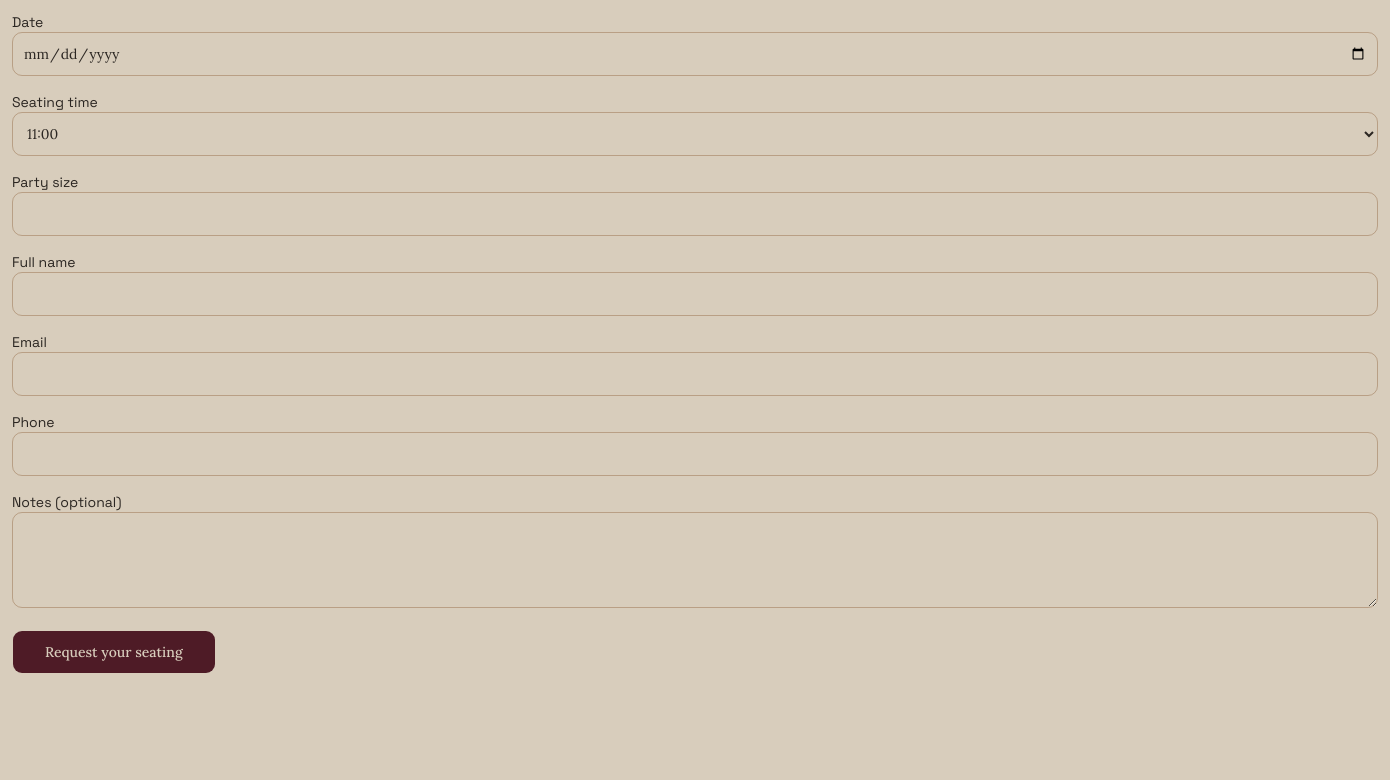
ReservationForm › shows a generic error message when createReservation returns an error
Type "2026-09-17" into the date field labelled "Date" at (695, 54), box [12,32,1378,76]
Select "11:00" in the dropdown labelled "Seating time" at (695, 134), box [12,112,1378,156]
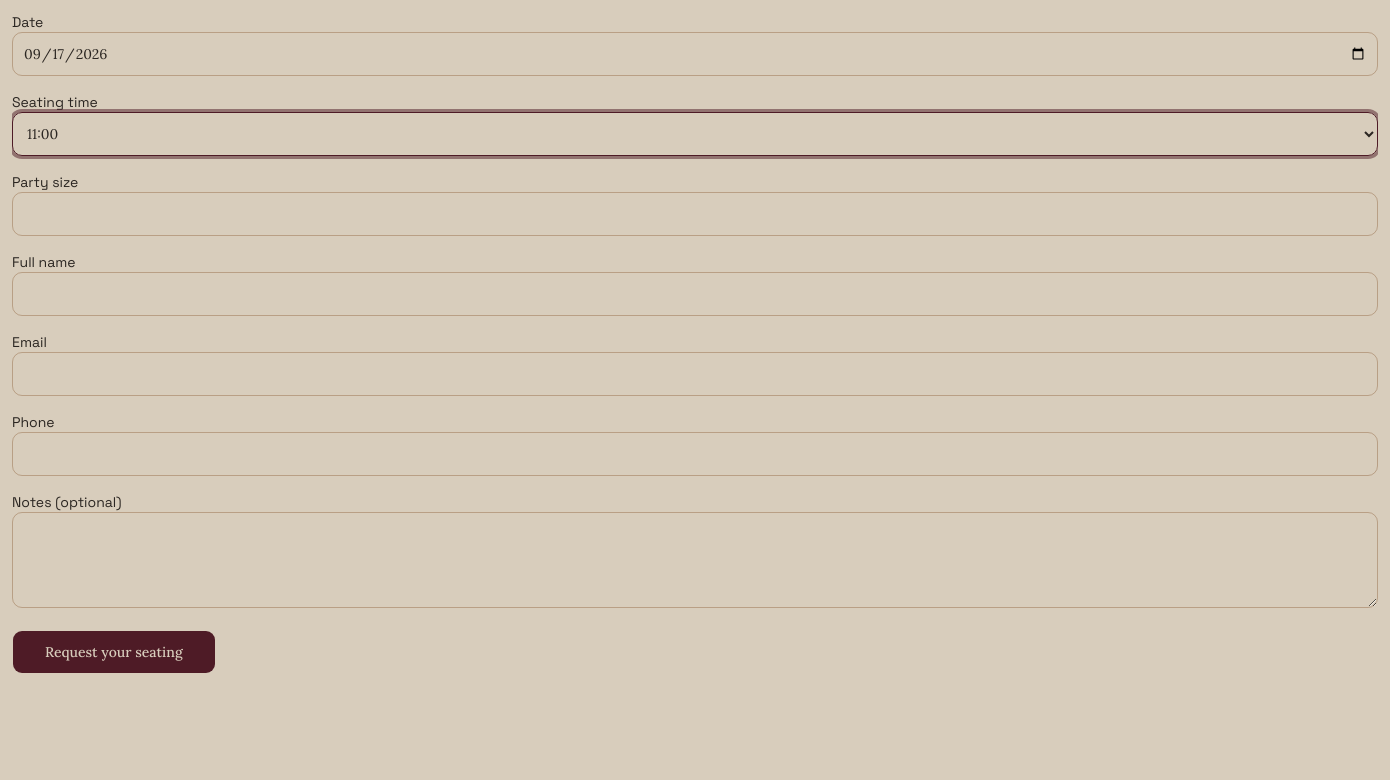
Type "2" into the number field labelled "Party size" at (695, 214), box [12,192,1378,236]
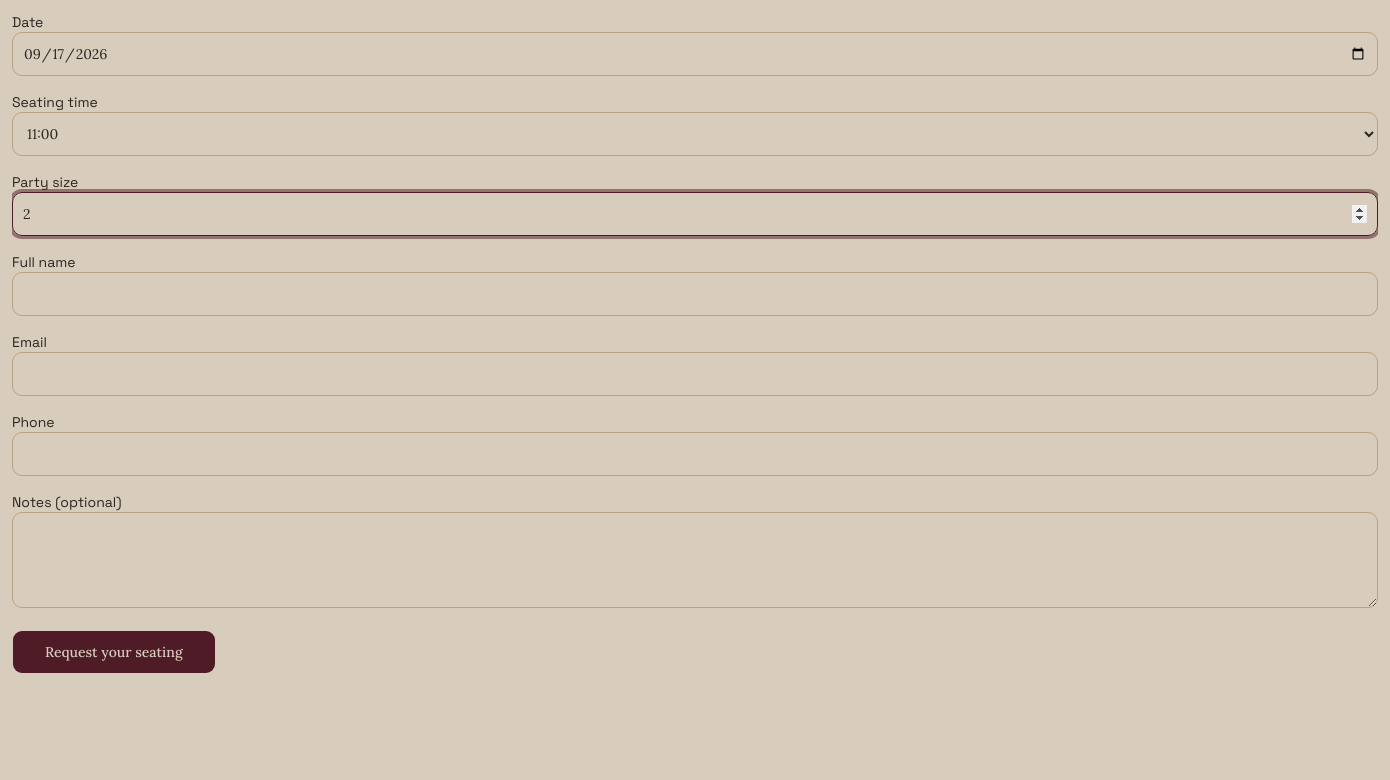
Type "Jane Doe" into the field labelled "Full name" at (695, 294), box [12,272,1378,316]
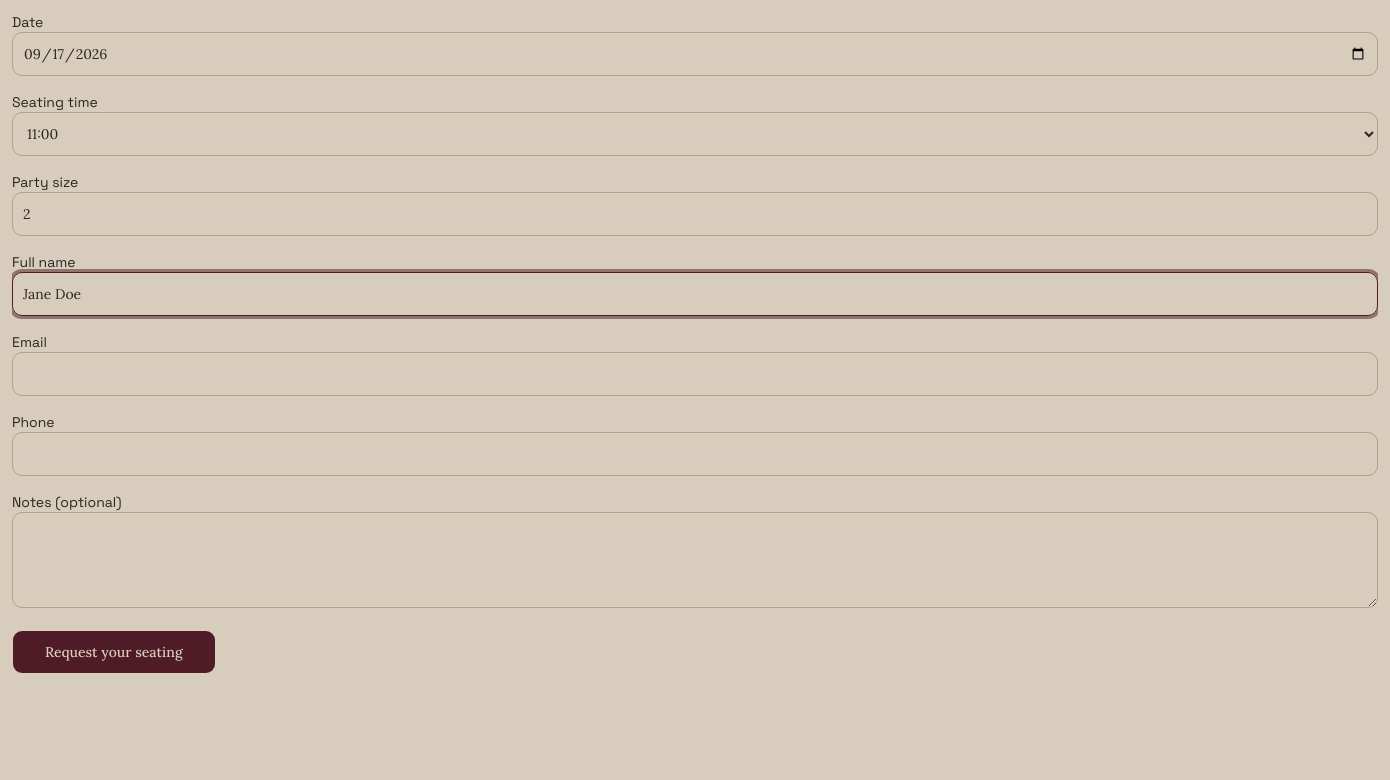
Type "jane@example.com" into the field labelled "Email" at (695, 374), box [12,352,1378,396]
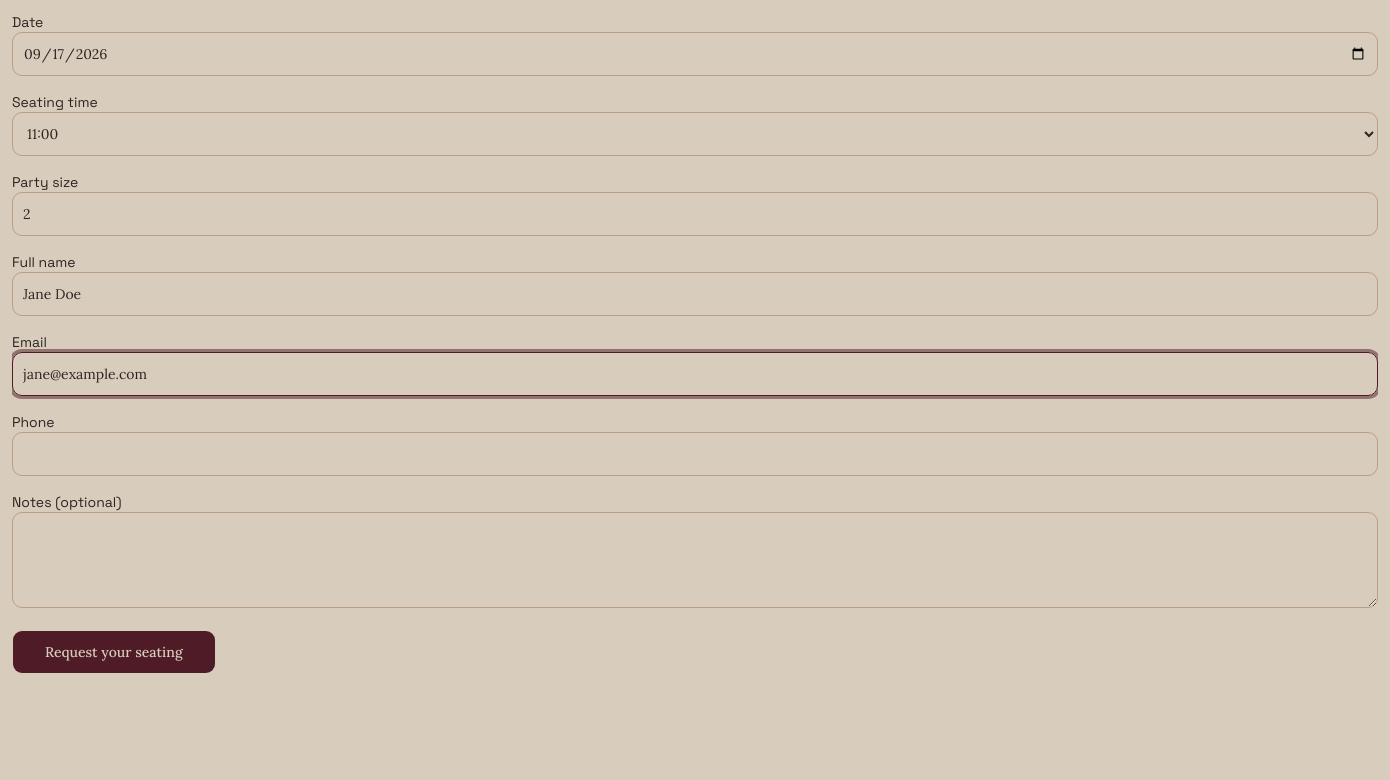
Type "+15551234567" into the field labelled "Phone" at (695, 454), box [12,432,1378,476]
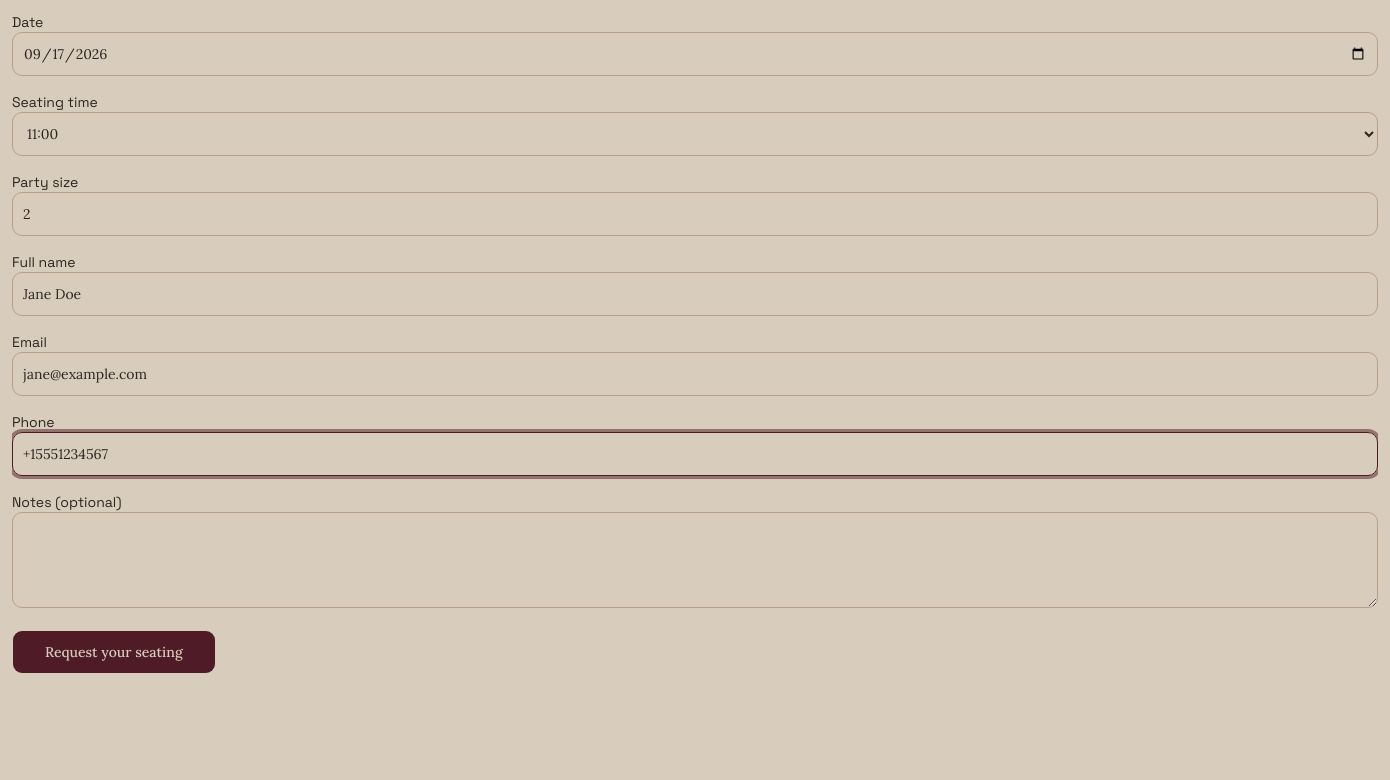
Click the button "Request your seating" at (114, 652), box [12,630,216,674]
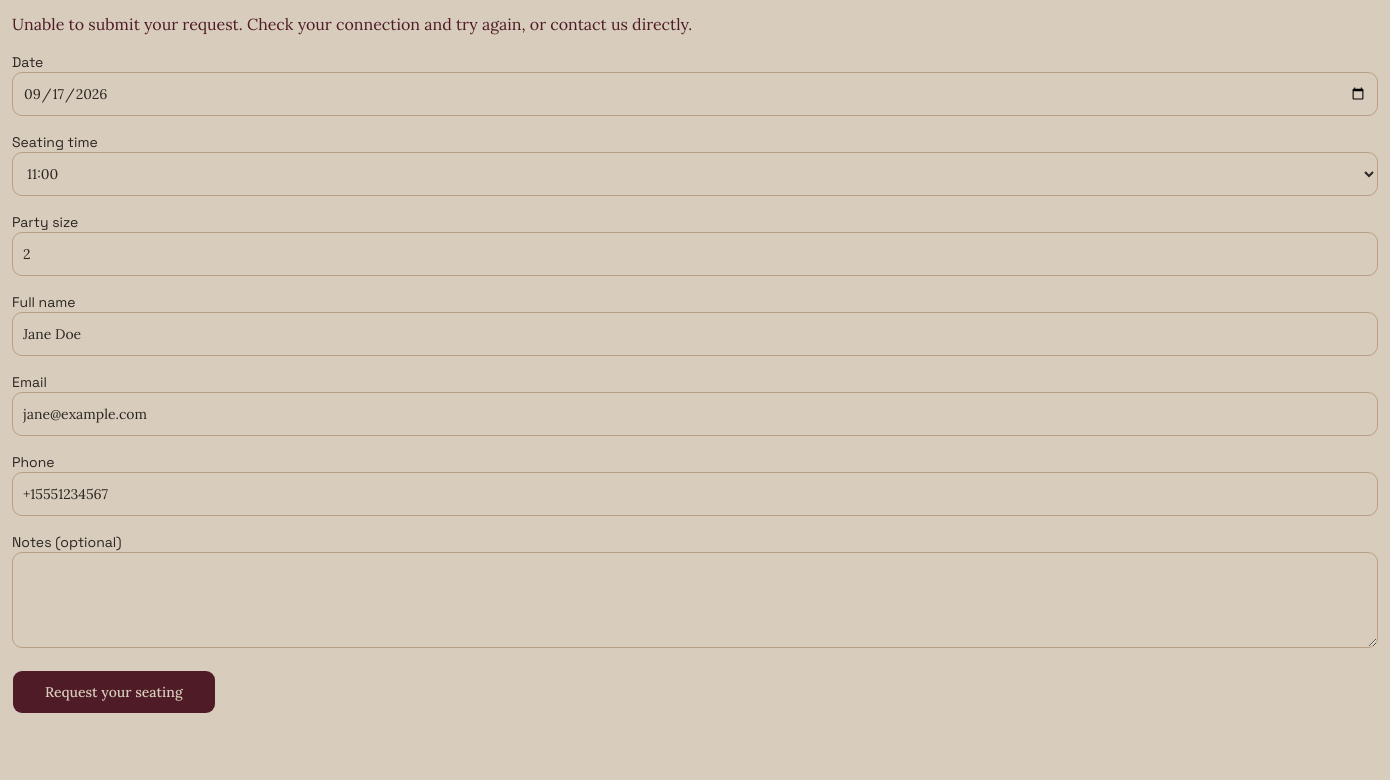
Check: the text "Unable to submit your request. Check your connection and try again, or contact us directly." is shown, box [12,14,692,34]
